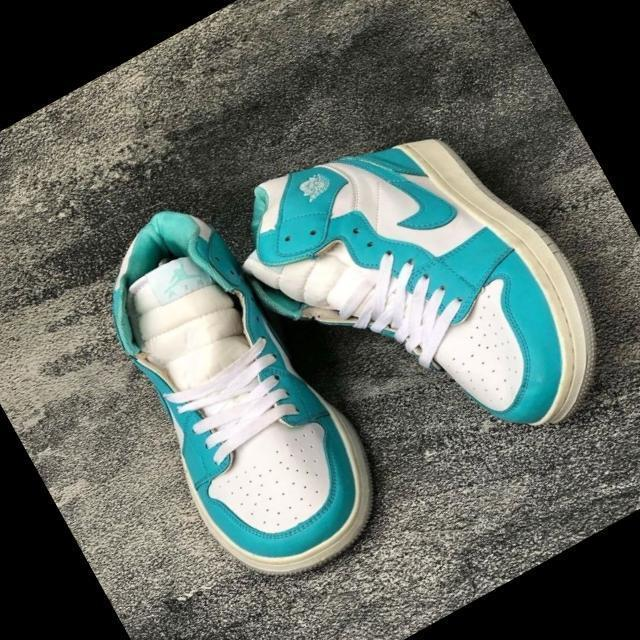nike fake jordan 1: (211, 70, 640, 523), (57, 180, 402, 608)
